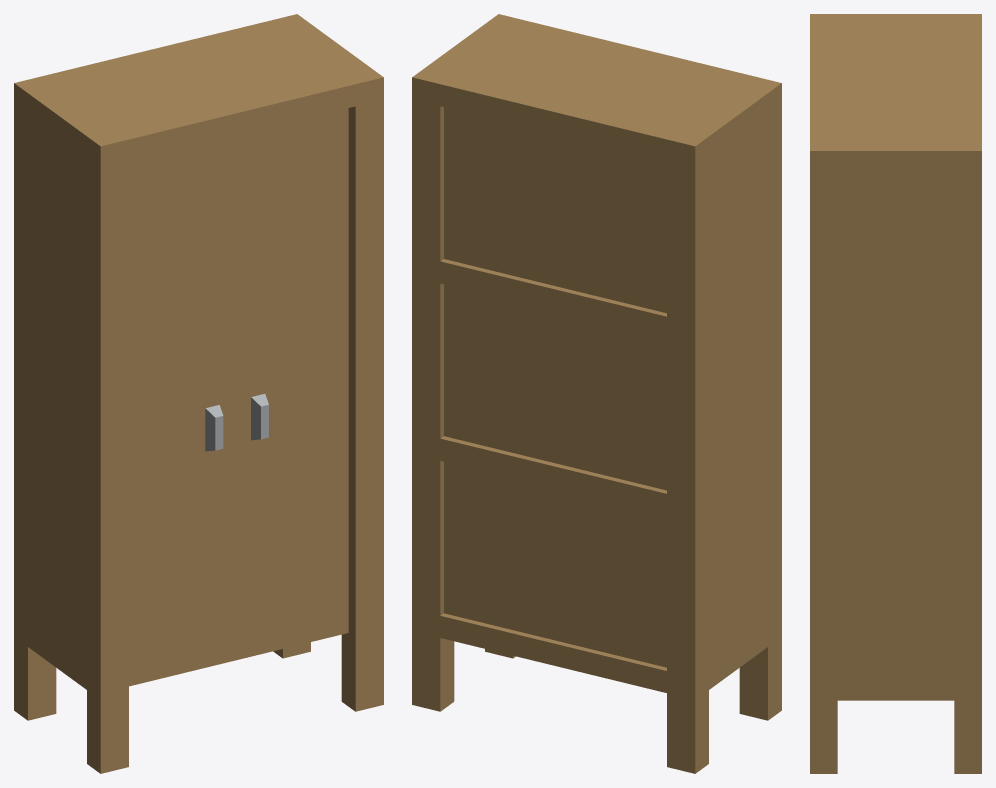
Rendered from cupboard.glb.
3 renders of one model, left to right at view 1: azimuth 30°, elevation 25°; view 2: azimuth 150°, elevation 25°; view 3: azimuth 270°, elevation 25°, orthographic.
Parts seen in each view (by area): view 1: cupboard; view 2: cupboard; view 3: cupboard.
Boxes of the visible parts, box(x1,y1,x2,y2) form: cupboard: box(14, 14, 383, 773); cupboard: box(412, 14, 781, 773); cupboard: box(810, 14, 981, 773).
Size of the model in its own units: 0.85 by 1.8 by 0.45.
